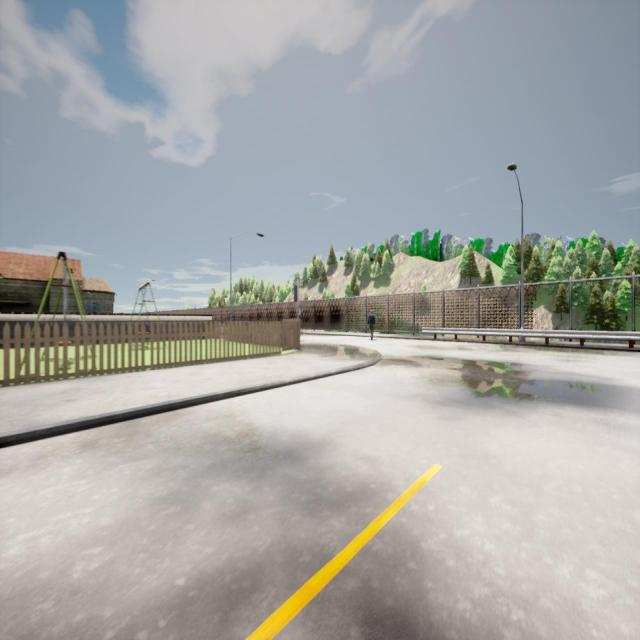Pedestrian: (366, 311, 376, 340)
traffic_light: (294, 286, 298, 302)
